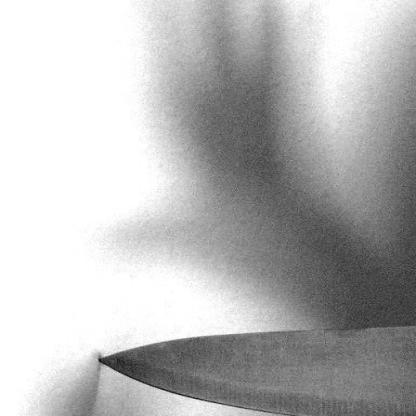knife: (91, 315, 415, 415)
